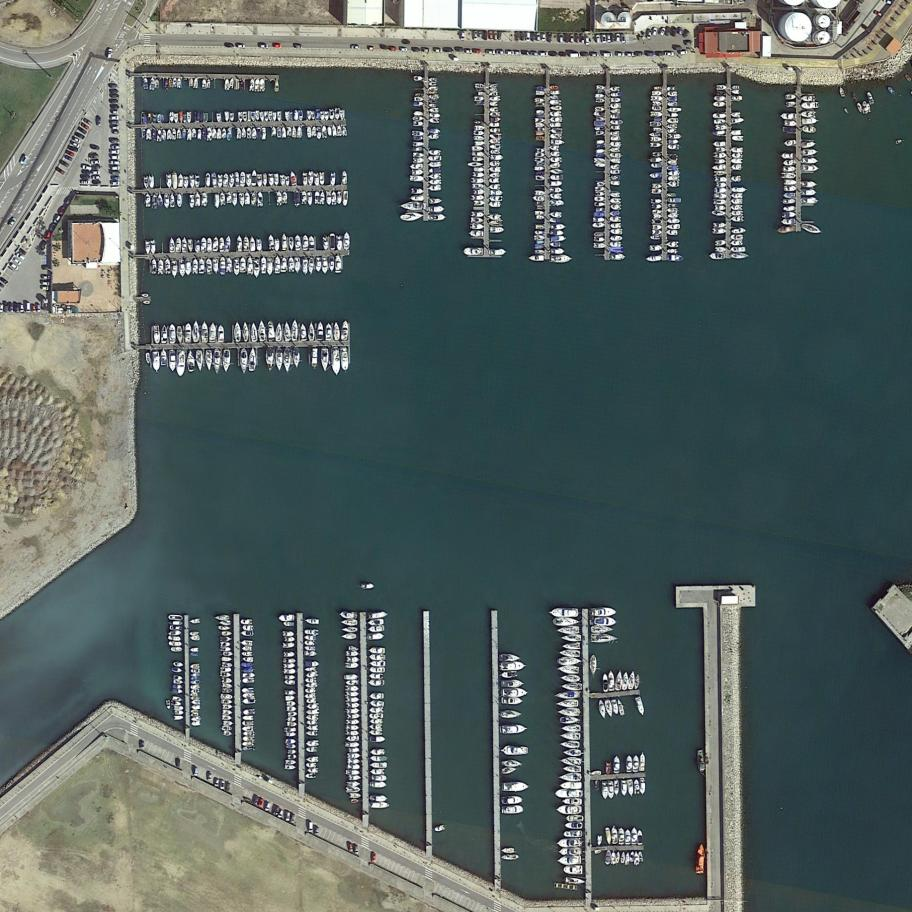ship: (549, 607, 579, 618), (800, 222, 823, 236), (696, 748, 707, 777), (331, 347, 341, 377), (696, 844, 706, 874), (555, 789, 584, 799), (175, 349, 185, 377), (590, 634, 618, 644), (634, 696, 647, 717), (501, 688, 528, 698), (501, 746, 528, 756), (502, 782, 529, 792), (557, 855, 581, 866), (557, 664, 580, 675), (596, 699, 608, 720), (499, 725, 527, 734), (264, 348, 274, 372), (283, 347, 292, 373), (240, 348, 249, 374), (556, 805, 582, 814), (501, 662, 527, 671), (591, 608, 617, 617), (776, 224, 797, 235), (400, 201, 423, 211), (222, 350, 232, 373), (594, 616, 617, 626), (321, 348, 330, 373), (551, 254, 573, 264), (559, 648, 581, 658), (560, 756, 582, 766), (400, 212, 424, 221), (340, 347, 349, 371), (248, 348, 257, 372), (553, 618, 580, 626), (604, 698, 614, 719), (554, 691, 580, 699), (274, 348, 283, 371), (187, 350, 196, 373), (558, 708, 581, 717), (615, 669, 624, 692), (590, 625, 613, 634), (213, 349, 221, 374), (557, 657, 582, 665), (557, 839, 582, 847), (267, 320, 276, 342), (152, 352, 161, 374), (500, 710, 522, 719), (501, 759, 523, 768), (501, 796, 523, 805), (560, 674, 581, 683), (560, 732, 581, 741), (627, 670, 636, 691), (192, 320, 200, 343), (559, 773, 582, 781), (559, 848, 582, 856), (557, 626, 580, 634), (501, 680, 524, 688), (283, 322, 292, 342), (560, 740, 580, 749), (616, 699, 626, 717), (241, 321, 249, 343), (291, 320, 299, 342), (196, 350, 204, 372), (168, 350, 176, 372), (557, 699, 579, 707), (499, 654, 521, 662), (502, 806, 524, 814), (562, 642, 581, 651), (563, 748, 582, 757), (564, 866, 583, 875), (604, 827, 613, 846), (610, 699, 620, 716), (250, 322, 258, 343), (341, 320, 349, 341), (205, 350, 213, 371), (560, 717, 581, 725), (589, 654, 597, 675), (502, 697, 523, 705), (367, 611, 388, 619), (559, 782, 582, 789), (464, 248, 484, 256), (562, 683, 582, 691), (565, 877, 585, 885), (621, 671, 629, 691), (258, 320, 265, 342), (201, 321, 208, 343), (311, 348, 318, 370), (153, 325, 161, 344), (563, 765, 582, 773), (801, 102, 820, 110), (339, 611, 358, 619), (234, 322, 241, 343), (293, 348, 300, 369), (645, 255, 663, 263), (289, 170, 298, 186), (801, 148, 819, 156), (501, 766, 517, 775), (367, 633, 385, 641), (209, 323, 216, 343), (275, 322, 282, 342), (169, 324, 176, 344), (185, 323, 192, 343), (561, 634, 581, 641), (639, 752, 646, 772), (611, 825, 618, 845), (667, 254, 684, 262), (367, 618, 384, 626), (368, 625, 385, 633), (368, 679, 385, 687), (866, 91, 875, 106), (300, 323, 307, 342), (317, 322, 324, 341), (333, 322, 340, 341), (218, 324, 225, 343), (161, 325, 168, 344), (562, 725, 581, 732), (801, 165, 820, 172), (371, 802, 390, 809), (886, 85, 897, 97), (610, 253, 626, 261), (280, 257, 288, 273), (801, 141, 817, 149), (801, 126, 817, 134), (489, 249, 507, 256), (731, 253, 749, 260), (429, 214, 447, 221), (309, 321, 315, 342), (325, 323, 332, 341), (274, 256, 281, 274), (343, 232, 350, 250), (236, 235, 243, 253), (566, 815, 584, 822), (565, 822, 583, 829), (564, 830, 582, 837), (632, 755, 639, 773), (613, 756, 620, 774), (627, 779, 634, 797), (801, 198, 819, 205), (801, 158, 819, 165), (634, 673, 641, 691), (370, 755, 388, 762), (370, 795, 388, 802), (500, 671, 518, 678), (501, 854, 519, 861), (368, 647, 386, 654), (253, 259, 259, 279), (851, 91, 861, 103), (562, 799, 582, 805), (608, 671, 614, 691), (781, 152, 796, 160), (369, 693, 384, 701), (206, 258, 213, 275), (176, 327, 183, 344), (302, 234, 309, 251), (249, 235, 256, 252), (225, 235, 232, 252), (802, 118, 819, 125), (800, 111, 817, 118), (341, 619, 358, 626), (342, 626, 359, 633), (369, 654, 386, 661), (179, 259, 185, 278), (220, 257, 226, 276), (234, 258, 240, 277), (322, 256, 328, 275), (709, 253, 725, 260), (429, 206, 445, 213), (240, 257, 247, 273), (211, 172, 218, 188), (605, 850, 612, 866), (279, 614, 295, 621), (802, 181, 818, 188), (780, 113, 796, 120), (341, 633, 357, 640), (305, 671, 319, 679), (247, 257, 253, 275), (172, 172, 178, 190), (267, 258, 273, 276), (281, 233, 287, 251), (627, 755, 633, 773), (608, 781, 614, 799), (602, 782, 608, 800), (631, 827, 637, 845), (619, 827, 625, 845), (856, 102, 865, 114), (370, 762, 388, 768), (469, 230, 484, 237), (342, 191, 349, 206), (164, 259, 171, 274), (226, 258, 233, 273), (268, 235, 275, 250), (168, 614, 183, 621), (167, 630, 182, 637), (305, 618, 320, 625), (370, 768, 385, 775), (369, 707, 384, 714), (784, 139, 797, 147), (294, 191, 300, 208), (171, 261, 177, 278), (185, 259, 191, 276), (335, 256, 341, 273), (295, 234, 301, 251), (243, 235, 249, 252), (640, 778, 646, 795), (370, 782, 387, 788), (410, 175, 424, 182), (624, 852, 631, 866), (242, 698, 256, 705), (550, 192, 562, 200), (551, 224, 567, 230), (551, 236, 567, 242), (731, 228, 747, 234), (730, 247, 746, 253), (251, 170, 257, 186), (151, 259, 157, 275), (213, 259, 219, 275), (161, 350, 167, 366), (175, 237, 181, 253), (169, 237, 175, 253), (166, 173, 172, 189), (214, 194, 220, 210), (323, 235, 329, 251), (213, 236, 219, 252), (243, 708, 255, 716), (434, 825, 446, 833), (621, 780, 627, 796), (614, 780, 620, 796), (625, 829, 631, 845), (370, 736, 386, 742), (370, 661, 386, 667), (369, 701, 385, 707), (603, 673, 608, 692), (549, 211, 562, 218), (549, 99, 562, 106), (411, 188, 424, 195), (429, 161, 442, 168), (429, 173, 442, 180), (488, 214, 501, 221), (650, 245, 663, 252), (610, 228, 623, 235), (614, 851, 621, 864), (172, 661, 185, 668), (714, 170, 727, 177), (713, 222, 726, 229), (784, 120, 797, 127), (783, 159, 796, 166), (306, 740, 319, 747), (306, 756, 319, 763), (346, 735, 359, 742), (551, 248, 566, 254), (529, 255, 544, 261), (467, 162, 485, 167), (551, 139, 566, 145), (490, 227, 505, 233), (732, 187, 747, 193), (667, 198, 682, 204), (308, 171, 314, 186), (240, 172, 246, 187), (257, 192, 263, 207), (158, 260, 164, 275), (192, 259, 198, 274), (199, 259, 205, 274), (261, 256, 266, 274), (145, 240, 151, 255), (206, 238, 212, 253), (316, 258, 322, 273), (336, 236, 342, 251), (634, 780, 640, 795), (781, 219, 796, 225), (712, 141, 727, 147), (781, 173, 796, 179), (802, 190, 817, 196), (800, 96, 815, 102), (305, 661, 320, 667), (346, 719, 361, 725), (370, 749, 385, 755), (372, 775, 387, 781), (345, 725, 360, 731), (345, 742, 360, 748), (346, 787, 361, 793), (370, 667, 385, 673), (369, 713, 384, 719), (549, 144, 560, 152), (139, 129, 147, 140), (838, 87, 846, 98), (786, 100, 797, 108), (295, 257, 300, 274), (309, 257, 314, 274), (329, 256, 334, 273), (551, 200, 565, 206), (409, 195, 423, 201), (471, 195, 485, 201), (489, 196, 503, 202), (471, 212, 485, 218), (610, 119, 624, 125), (667, 241, 679, 248), (307, 193, 313, 207), (195, 193, 201, 207), (223, 173, 229, 187), (149, 175, 155, 189), (145, 194, 151, 208), (189, 195, 195, 209), (217, 174, 223, 188), (232, 193, 238, 207), (239, 193, 245, 207), (201, 238, 207, 252), (289, 258, 295, 272), (309, 236, 315, 250), (610, 852, 616, 866), (168, 636, 182, 642), (242, 656, 254, 663), (218, 625, 232, 631), (489, 220, 503, 226), (783, 206, 797, 212), (712, 130, 726, 136), (713, 152, 727, 158), (712, 228, 726, 234), (306, 708, 320, 714), (305, 731, 319, 737), (346, 657, 360, 663), (344, 674, 358, 680), (305, 630, 319, 636), (346, 708, 360, 714), (501, 848, 515, 854), (369, 724, 383, 730), (346, 770, 360, 776), (348, 775, 362, 781), (347, 781, 361, 787), (369, 673, 383, 679), (235, 171, 240, 187), (182, 237, 187, 253), (164, 194, 169, 210), (330, 234, 335, 250), (303, 259, 308, 275), (550, 174, 563, 180), (550, 187, 563, 193), (472, 178, 485, 184), (550, 117, 563, 123), (410, 164, 423, 170), (471, 218, 484, 224), (472, 224, 485, 230), (732, 118, 745, 124), (732, 216, 745, 222), (592, 222, 605, 228), (610, 235, 623, 241), (314, 173, 320, 186), (220, 193, 226, 206), (150, 78, 156, 91), (249, 79, 255, 92), (259, 79, 265, 92), (268, 174, 274, 187), (256, 239, 262, 252), (620, 852, 626, 865), (170, 625, 183, 631), (220, 694, 233, 700), (361, 584, 374, 590), (241, 631, 254, 637), (605, 762, 611, 775), (784, 179, 797, 185), (784, 186, 797, 192), (783, 127, 796, 133), (306, 703, 319, 709), (306, 714, 319, 720), (306, 725, 319, 731), (346, 651, 359, 657), (305, 651, 318, 657), (347, 753, 360, 759), (347, 759, 360, 765), (715, 240, 726, 247), (667, 107, 682, 112), (332, 191, 337, 206), (151, 240, 156, 255), (152, 194, 157, 209), (289, 237, 294, 252), (220, 238, 225, 253), (169, 621, 184, 626), (215, 615, 230, 620), (638, 830, 643, 845), (345, 697, 360, 702), (345, 731, 360, 736), (550, 157, 562, 163), (472, 146, 484, 152), (550, 111, 562, 117), (412, 131, 424, 137), (429, 150, 441, 156), (429, 167, 441, 173), (489, 96, 501, 102), (490, 133, 502, 139), (491, 155, 503, 161), (667, 118, 679, 124), (667, 165, 679, 171), (730, 130, 742, 136), (731, 147, 743, 153), (731, 205, 743, 211), (731, 234, 743, 240), (731, 240, 743, 246), (651, 96, 663, 102), (609, 198, 621, 204), (610, 204, 622, 210), (668, 181, 680, 187), (666, 229, 678, 235), (594, 121, 606, 127), (429, 186, 441, 192), (282, 192, 288, 204), (183, 177, 189, 189), (629, 851, 635, 863), (638, 851, 644, 863), (171, 667, 183, 673), (189, 619, 201, 625), (220, 667, 232, 673), (241, 619, 253, 625), (241, 640, 253, 646), (242, 726, 254, 732), (219, 620, 231, 626), (609, 175, 621, 181), (590, 771, 602, 777), (784, 212, 796, 218), (714, 119, 726, 125), (715, 125, 727, 131), (714, 205, 726, 211), (784, 166, 796, 172), (305, 693, 317, 699), (306, 747, 318, 753), (284, 668, 296, 674), (349, 793, 361, 799), (550, 231, 564, 236), (550, 129, 564, 134), (428, 156, 442, 161), (489, 190, 503, 195), (668, 134, 682, 139), (261, 127, 266, 141), (342, 171, 347, 185), (302, 191, 307, 205), (327, 192, 332, 206), (331, 172, 336, 186), (202, 193, 207, 207), (277, 192, 282, 206), (227, 128, 232, 142), (274, 79, 279, 93), (188, 239, 193, 253), (144, 176, 149, 190), (170, 194, 175, 208), (177, 194, 182, 208), (205, 173, 210, 187), (275, 238, 280, 252), (634, 852, 639, 866), (712, 165, 726, 170), (713, 200, 727, 205), (712, 211, 726, 216), (862, 101, 867, 115), (345, 663, 359, 668), (345, 686, 359, 691), (345, 692, 359, 697), (346, 703, 360, 708), (346, 714, 360, 719), (369, 730, 383, 735), (369, 719, 383, 724), (549, 163, 560, 169), (413, 158, 424, 164), (429, 118, 440, 124), (489, 161, 500, 167), (489, 184, 500, 190), (730, 112, 741, 118), (731, 175, 742, 181), (732, 199, 743, 205), (610, 103, 621, 109), (610, 158, 621, 164), (667, 213, 678, 219), (229, 78, 235, 89), (146, 129, 152, 140), (172, 696, 183, 702), (221, 715, 232, 721), (243, 625, 254, 631), (243, 678, 254, 684), (222, 678, 233, 684), (189, 635, 200, 641), (189, 631, 200, 637), (597, 835, 603, 846), (786, 94, 797, 100), (306, 698, 317, 704), (307, 768, 318, 774), (305, 773, 316, 779), (283, 631, 294, 637), (285, 695, 296, 701), (287, 712, 298, 718), (285, 739, 296, 745), (550, 169, 563, 174), (473, 172, 486, 177), (472, 184, 485, 189), (649, 173, 662, 178), (667, 145, 680, 150), (668, 176, 681, 181), (667, 224, 680, 229), (429, 199, 442, 204), (317, 127, 322, 140), (332, 124, 337, 137), (303, 173, 308, 186), (320, 192, 325, 205), (337, 192, 342, 205), (255, 79, 260, 92), (207, 128, 212, 141), (262, 173, 267, 186), (158, 193, 163, 206), (178, 174, 183, 187), (189, 175, 194, 188), (195, 175, 200, 188), (246, 174, 251, 187), (257, 174, 262, 187), (195, 240, 200, 253), (169, 641, 182, 646), (242, 746, 255, 751), (243, 673, 256, 678), (783, 193, 796, 198), (783, 199, 796, 204), (714, 96, 727, 101), (713, 102, 726, 107), (713, 113, 726, 118), (714, 188, 727, 193), (714, 194, 727, 199), (650, 158, 663, 163), (346, 680, 359, 685), (283, 658, 296, 663), (283, 663, 296, 668), (347, 765, 360, 770), (597, 181, 606, 188), (594, 849, 603, 856), (843, 107, 850, 116), (550, 181, 562, 186), (472, 152, 484, 157), (550, 151, 560, 157), (550, 134, 562, 139), (550, 106, 562, 111), (413, 121, 423, 127), (412, 170, 424, 175), (429, 113, 441, 118), (429, 129, 441, 134), (430, 180, 442, 185), (489, 139, 501, 144), (649, 132, 661, 137), (650, 143, 662, 148), (650, 122, 662, 127), (732, 136, 744, 141), (731, 159, 743, 164), (731, 193, 743, 198), (651, 112, 663, 117), (668, 171, 680, 176), (593, 243, 605, 248), (610, 86, 620, 92), (610, 211, 620, 217), (610, 217, 622, 222), (666, 208, 678, 213), (668, 219, 680, 224), (335, 108, 340, 120), (297, 126, 302, 138), (292, 126, 297, 138), (282, 127, 287, 139), (315, 192, 320, 204), (320, 173, 325, 185), (157, 130, 162, 142), (227, 192, 232, 204), (245, 193, 250, 205), (144, 78, 149, 90), (225, 79, 230, 91), (217, 128, 222, 140), (202, 129, 207, 141), (197, 129, 202, 141), (187, 129, 192, 141), (259, 112, 265, 122), (147, 112, 152, 124), (280, 175, 285, 187), (274, 174, 279, 186), (173, 675, 183, 681), (243, 737, 255, 742), (242, 646, 252, 652), (242, 688, 254, 693), (242, 721, 254, 726), (223, 731, 233, 737), (305, 640, 315, 646), (220, 637, 232, 642), (220, 647, 232, 652), (152, 130, 157, 142), (714, 159, 726, 164), (716, 177, 728, 182), (306, 683, 318, 688), (284, 637, 296, 642), (283, 643, 295, 648), (286, 701, 296, 707), (284, 727, 296, 732), (285, 760, 297, 765), (304, 635, 316, 640), (348, 748, 360, 753), (895, 139, 903, 146), (550, 242, 561, 247), (474, 131, 485, 136), (474, 136, 485, 141), (474, 167, 485, 172), (534, 158, 545, 163), (534, 191, 545, 196), (533, 196, 544, 201), (534, 235, 545, 240), (534, 98, 545, 103), (413, 111, 424, 116), (413, 142, 424, 147), (413, 153, 424, 158), (428, 134, 439, 139), (474, 190, 485, 195), (474, 201, 485, 206), (490, 112, 501, 117), (490, 144, 501, 149), (490, 167, 501, 172), (490, 202, 501, 207), (651, 199, 662, 204), (652, 220, 663, 225), (652, 225, 663, 230), (650, 235, 661, 240), (667, 92, 678, 97), (667, 102, 678, 107), (667, 155, 678, 160), (651, 137, 662, 142), (732, 153, 743, 158), (732, 211, 743, 216), (594, 202, 605, 207), (594, 232, 605, 237), (594, 237, 605, 242), (611, 92, 622, 97), (610, 109, 621, 114), (610, 136, 621, 141), (610, 142, 621, 147), (610, 153, 621, 158), (610, 181, 621, 186), (610, 223, 621, 228), (610, 242, 621, 247), (594, 197, 605, 202), (594, 158, 605, 163), (595, 163, 606, 168), (294, 110, 299, 121), (342, 126, 347, 137), (337, 126, 342, 137), (307, 127, 312, 138), (252, 128, 257, 139), (247, 128, 252, 139), (237, 128, 242, 139), (202, 79, 207, 90), (167, 129, 172, 140), (255, 110, 260, 121), (153, 113, 158, 124), (146, 353, 151, 364), (715, 247, 726, 252), (171, 647, 182, 652), (173, 680, 184, 685), (172, 685, 183, 690), (171, 701, 182, 706), (173, 706, 184, 711), (222, 726, 233, 731), (222, 688, 233, 693), (222, 710, 233, 715), (242, 652, 253, 657), (243, 668, 254, 673), (243, 693, 254, 698), (243, 715, 254, 720), (190, 685, 201, 690), (223, 721, 234, 726), (220, 642, 231, 647), (223, 652, 234, 657), (195, 112, 200, 123), (716, 147, 727, 152), (413, 102, 424, 107), (610, 193, 621, 198), (305, 667, 316, 672), (306, 678, 317, 683), (305, 688, 316, 693), (307, 720, 318, 725), (306, 763, 317, 768), (283, 621, 294, 626), (284, 652, 295, 657), (285, 675, 296, 680), (284, 680, 295, 685), (286, 744, 297, 749), (305, 646, 316, 651), (428, 103, 437, 109), (323, 126, 327, 139), (474, 97, 484, 102), (475, 126, 485, 131), (475, 141, 485, 146), (535, 118, 545, 123), (535, 225, 545, 230), (550, 91, 560, 96), (549, 95, 559, 100), (414, 97, 424, 102), (429, 108, 439, 113), (491, 118, 501, 123), (490, 128, 500, 133), (490, 149, 500, 154), (490, 173, 500, 178), (489, 178, 499, 183), (652, 189, 662, 194), (652, 210, 662, 215), (667, 97, 677, 102), (667, 124, 677, 129), (732, 165, 742, 170), (652, 91, 662, 96), (652, 106, 662, 111), (611, 98, 621, 103), (611, 114, 621, 119), (610, 131, 620, 136), (610, 147, 620, 152), (610, 165, 620, 170), (667, 249, 677, 254), (595, 107, 605, 112), (595, 187, 605, 192), (324, 111, 329, 121), (298, 111, 303, 121), (243, 112, 248, 122), (339, 110, 344, 120), (192, 128, 197, 138), (222, 128, 227, 138), (212, 129, 217, 139), (264, 112, 269, 122), (251, 112, 256, 122), (429, 94, 439, 99), (166, 700, 171, 710), (190, 664, 200, 669), (223, 705, 233, 710), (191, 668, 201, 673), (191, 700, 201, 705), (191, 705, 201, 710), (191, 721, 201, 726), (222, 631, 232, 636), (535, 171, 545, 176), (717, 85, 727, 90), (866, 103, 871, 113), (287, 707, 297, 712), (287, 722, 297, 727), (286, 732, 296, 737), (549, 219, 561, 223), (472, 157, 484, 161), (651, 164, 663, 168), (667, 113, 679, 117), (731, 96, 743, 100), (593, 218, 605, 222), (593, 213, 605, 217), (179, 111, 183, 123), (221, 684, 233, 688), (220, 673, 232, 677), (221, 700, 233, 704), (536, 205, 544, 211), (243, 732, 255, 736), (242, 742, 254, 746), (536, 176, 545, 181), (536, 215, 545, 220), (536, 91, 545, 96), (653, 153, 662, 158), (654, 214, 663, 219), (654, 86, 663, 91), (668, 160, 677, 165), (596, 85, 605, 90), (596, 131, 605, 136), (596, 140, 605, 145), (596, 149, 605, 154), (320, 111, 325, 120), (307, 111, 312, 120), (155, 80, 160, 89), (285, 112, 290, 121), (414, 76, 423, 81), (731, 90, 740, 95), (190, 647, 199, 652), (160, 114, 165, 123), (288, 717, 297, 722), (288, 755, 297, 760), (534, 167, 545, 171), (550, 123, 561, 127), (413, 117, 424, 121), (652, 231, 663, 235), (594, 127, 605, 131), (330, 109, 334, 120), (225, 111, 229, 122), (328, 126, 332, 137), (277, 127, 281, 138), (194, 78, 198, 89), (177, 78, 181, 89), (172, 129, 176, 140), (187, 112, 191, 123), (170, 112, 174, 123), (172, 690, 183, 694), (222, 663, 233, 667), (222, 657, 233, 661), (165, 80, 169, 91), (199, 112, 203, 123), (716, 183, 727, 187), (285, 691, 296, 695), (285, 765, 296, 769), (535, 250, 545, 254), (475, 84, 485, 88), (535, 124, 545, 128), (535, 153, 545, 157), (535, 211, 545, 215), (535, 231, 545, 235), (535, 86, 545, 90), (429, 99, 437, 104), (490, 107, 498, 112), (490, 123, 500, 127), (652, 184, 662, 188), (652, 205, 662, 209), (667, 87, 677, 91), (667, 129, 677, 133), (669, 140, 679, 144), (610, 170, 620, 174), (595, 192, 605, 196), (667, 204, 677, 208), (595, 94, 605, 98), (595, 99, 605, 103), (611, 126, 621, 130), (230, 113, 235, 121), (272, 127, 276, 137), (285, 176, 289, 186), (242, 128, 246, 138), (182, 129, 186, 139), (177, 129, 181, 139), (162, 130, 166, 140), (239, 112, 243, 122), (217, 113, 221, 123), (141, 293, 149, 298), (732, 85, 740, 90), (242, 663, 252, 667), (174, 716, 184, 720), (190, 652, 198, 657), (191, 673, 201, 677), (191, 717, 201, 721), (595, 781, 599, 791), (350, 799, 360, 803), (536, 110, 545, 114), (535, 245, 544, 249), (550, 86, 559, 90), (489, 92, 498, 96), (536, 103, 545, 107), (653, 128, 662, 132), (653, 102, 662, 106), (667, 193, 676, 197), (596, 117, 605, 121), (596, 154, 605, 158), (312, 111, 316, 120), (277, 112, 281, 121), (269, 112, 273, 121), (207, 80, 211, 89), (169, 79, 173, 88), (173, 78, 177, 87), (204, 113, 208, 122), (183, 114, 187, 123), (174, 114, 178, 123), (428, 82, 437, 86), (175, 711, 184, 715), (191, 680, 200, 684), (191, 689, 200, 693), (157, 114, 161, 123), (288, 750, 297, 754), (313, 126, 316, 137), (537, 149, 545, 153), (490, 88, 498, 92), (490, 102, 498, 106), (273, 113, 277, 121), (189, 79, 193, 87), (429, 78, 437, 82), (190, 693, 198, 697), (191, 713, 199, 717), (190, 697, 200, 700), (490, 85, 497, 89), (143, 301, 150, 305), (478, 92, 485, 96), (536, 137, 545, 140), (414, 137, 423, 140), (191, 677, 200, 680), (537, 128, 545, 131), (537, 241, 545, 244), (654, 118, 662, 121), (597, 145, 605, 148), (191, 710, 199, 713)
small-vehicle: (76, 124, 89, 136), (62, 195, 74, 207), (860, 23, 873, 34), (53, 165, 66, 176), (11, 256, 23, 267), (19, 153, 29, 166), (58, 159, 71, 169), (66, 144, 79, 154), (80, 121, 91, 132), (7, 261, 19, 271), (658, 26, 668, 38), (645, 28, 655, 40), (74, 130, 86, 140), (271, 806, 281, 818), (64, 148, 76, 158), (69, 140, 81, 150), (108, 137, 121, 146), (257, 796, 265, 810), (15, 252, 26, 262), (7, 217, 17, 228), (276, 809, 286, 820), (57, 205, 67, 216), (52, 214, 62, 225), (681, 28, 691, 39), (872, 9, 884, 18), (44, 229, 53, 241), (62, 153, 74, 162), (83, 117, 94, 126), (263, 801, 272, 812), (48, 222, 57, 233), (39, 240, 48, 251), (81, 164, 93, 172), (594, 33, 602, 45), (284, 810, 292, 822), (568, 51, 581, 58), (106, 48, 113, 60), (253, 794, 260, 806), (219, 778, 226, 790), (107, 82, 119, 89), (420, 46, 432, 53), (670, 26, 677, 38), (90, 158, 100, 166), (71, 136, 81, 144), (682, 39, 692, 47), (379, 43, 389, 51), (371, 850, 377, 863), (584, 34, 590, 47), (651, 26, 658, 37), (601, 33, 608, 44), (387, 45, 398, 52), (223, 42, 234, 49), (89, 144, 100, 151), (88, 153, 99, 160), (398, 46, 409, 53), (672, 44, 683, 51), (454, 46, 465, 53), (401, 38, 412, 45), (308, 821, 314, 833), (110, 175, 120, 182), (589, 51, 599, 58), (678, 49, 688, 56), (290, 812, 295, 826), (109, 98, 119, 105), (110, 109, 120, 116), (410, 46, 420, 53), (665, 26, 672, 36), (444, 47, 454, 54), (110, 160, 121, 166), (110, 171, 121, 177), (615, 51, 626, 57), (558, 33, 564, 44), (473, 30, 479, 41), (139, 740, 145, 751), (314, 825, 320, 836), (460, 30, 466, 41), (109, 115, 120, 121), (611, 31, 616, 44), (505, 49, 514, 56), (634, 50, 643, 57), (31, 304, 37, 314), (40, 285, 50, 291), (40, 280, 50, 286), (350, 44, 360, 50), (520, 50, 530, 56), (539, 51, 549, 57), (602, 52, 612, 58), (625, 51, 635, 57), (354, 843, 359, 855), (348, 841, 353, 853), (621, 32, 626, 44), (547, 32, 553, 42), (530, 31, 536, 41), (109, 150, 120, 155), (486, 50, 497, 55), (615, 32, 620, 43), (536, 31, 541, 42), (493, 30, 498, 41), (193, 767, 198, 778), (207, 771, 212, 782), (214, 777, 219, 788), (108, 89, 119, 94), (108, 104, 119, 109), (3, 303, 9, 312), (293, 43, 302, 49), (512, 50, 521, 56), (580, 51, 589, 57), (259, 44, 269, 49), (273, 44, 283, 49), (97, 117, 102, 127), (111, 145, 121, 150), (110, 155, 120, 160), (110, 166, 120, 171), (19, 304, 24, 314), (529, 51, 539, 56), (664, 51, 674, 56), (525, 32, 530, 42), (488, 30, 493, 40), (472, 48, 482, 53), (91, 180, 101, 185), (579, 33, 584, 43), (575, 33, 580, 43), (497, 31, 502, 41), (678, 26, 683, 36), (433, 48, 443, 53), (645, 51, 655, 56), (558, 51, 568, 56), (496, 49, 504, 55), (464, 48, 472, 54), (656, 50, 664, 56), (80, 181, 89, 186), (110, 181, 119, 186), (41, 275, 50, 280), (541, 32, 546, 41), (81, 175, 90, 180), (111, 126, 120, 131), (564, 34, 569, 43), (519, 31, 524, 40), (482, 31, 487, 40), (549, 51, 558, 56), (237, 44, 245, 49), (92, 175, 100, 180), (26, 303, 30, 313), (36, 305, 41, 313), (176, 758, 180, 768), (607, 33, 611, 43), (9, 303, 13, 312), (570, 34, 574, 43), (109, 94, 118, 98), (514, 31, 518, 40), (93, 171, 101, 175), (479, 30, 482, 39)
storage-tank: (778, 11, 813, 43), (814, 13, 831, 30), (815, 30, 831, 48), (617, 12, 632, 27), (601, 12, 615, 27)
